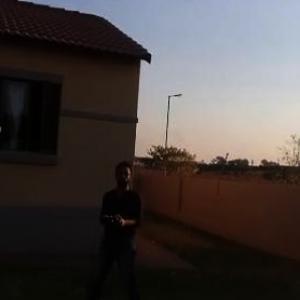follow: (71, 156, 146, 299)
